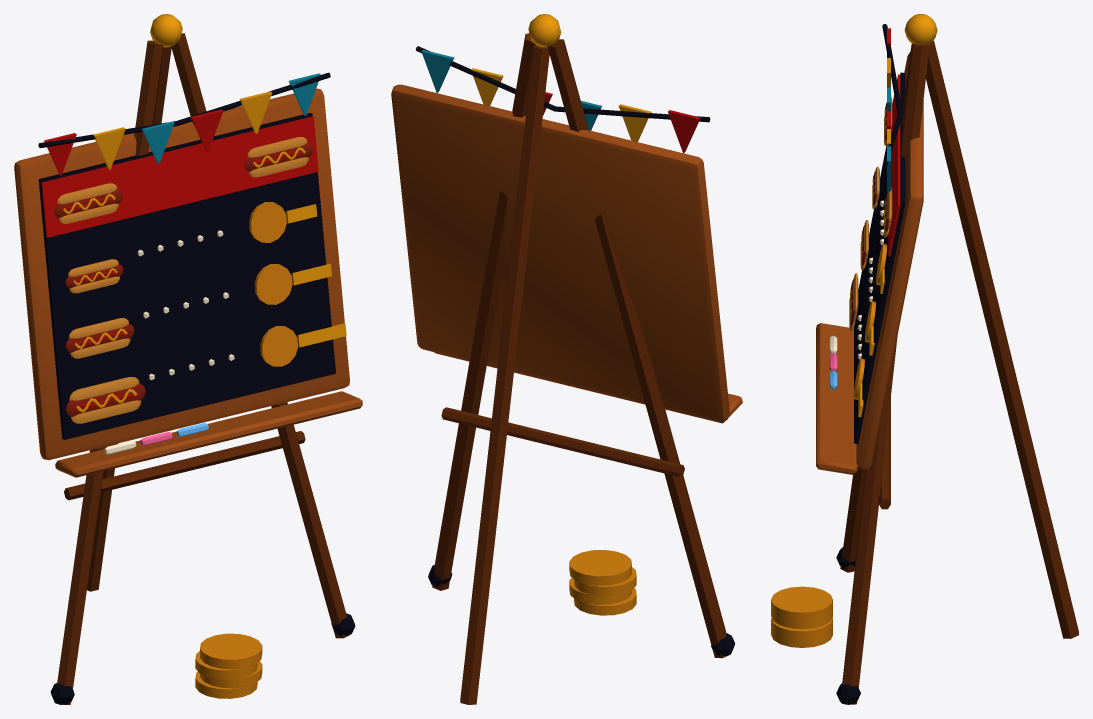
File: FeeBoard.fbx
3 views of the same model, side by side, from view 1: azimuth 30°, elevation 25°; view 2: azimuth 150°, elevation 25°; view 3: azimuth 270°, elevation 25° (orthographic).
Parts seen in each view (by area): view 1: FeeBoard; view 2: FeeBoard; view 3: FeeBoard.
Boxes of the visible parts, left/top/right/bottom form: FeeBoard: left=14, top=14, right=362, bottom=704; FeeBoard: left=391, top=14, right=742, bottom=704; FeeBoard: left=771, top=14, right=1078, bottom=704.
Size of the model in its own units: 3.4 by 6.63 by 2.98.
